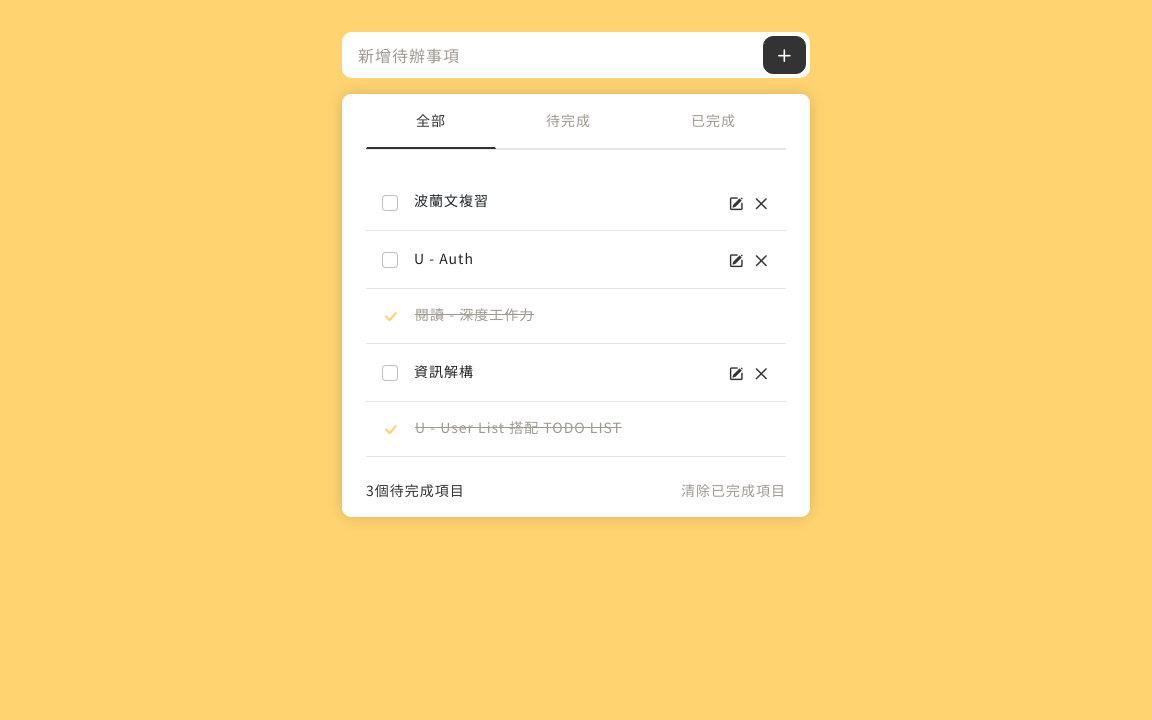
Todo List › Interaction › 點擊刪除按鈕，跳出確定刪除Modal資訊
Click the 1st button with test id "delete-icon" at (762, 204), box [753,193,770,214]
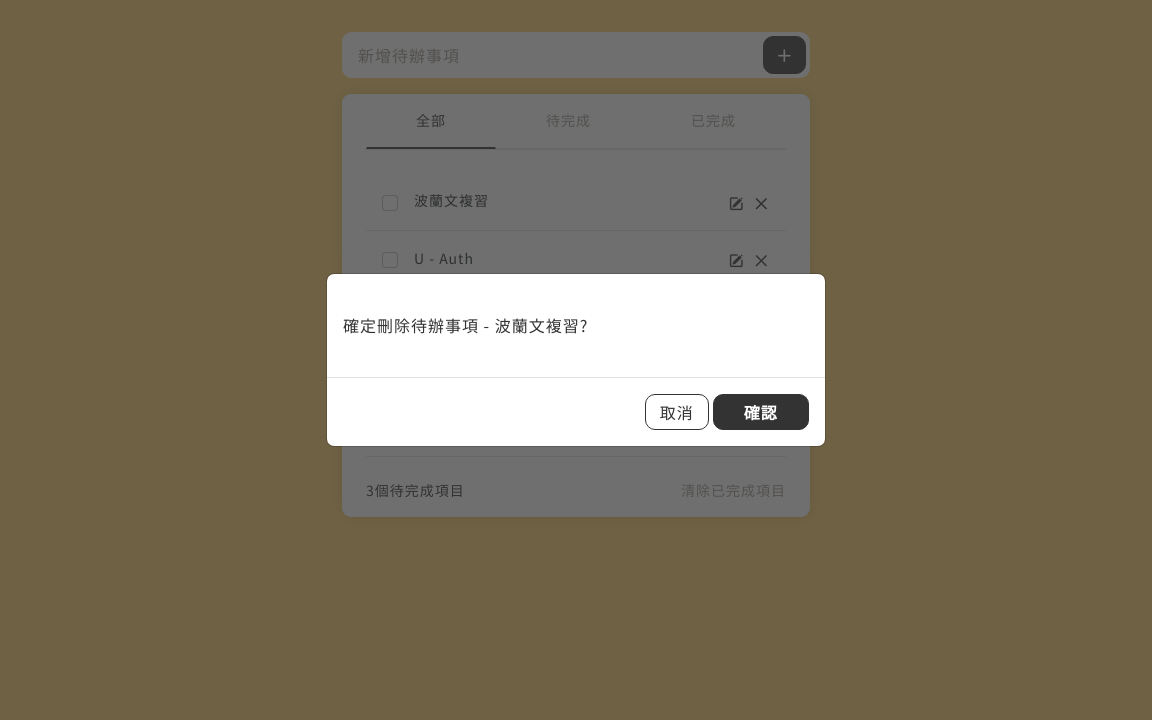
Expected: the element with test id "modal" is shown
